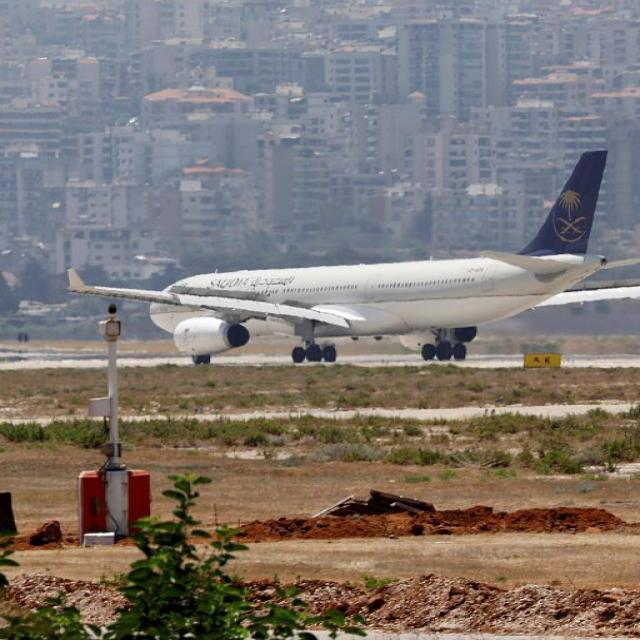airplane: (57, 143, 640, 368)
